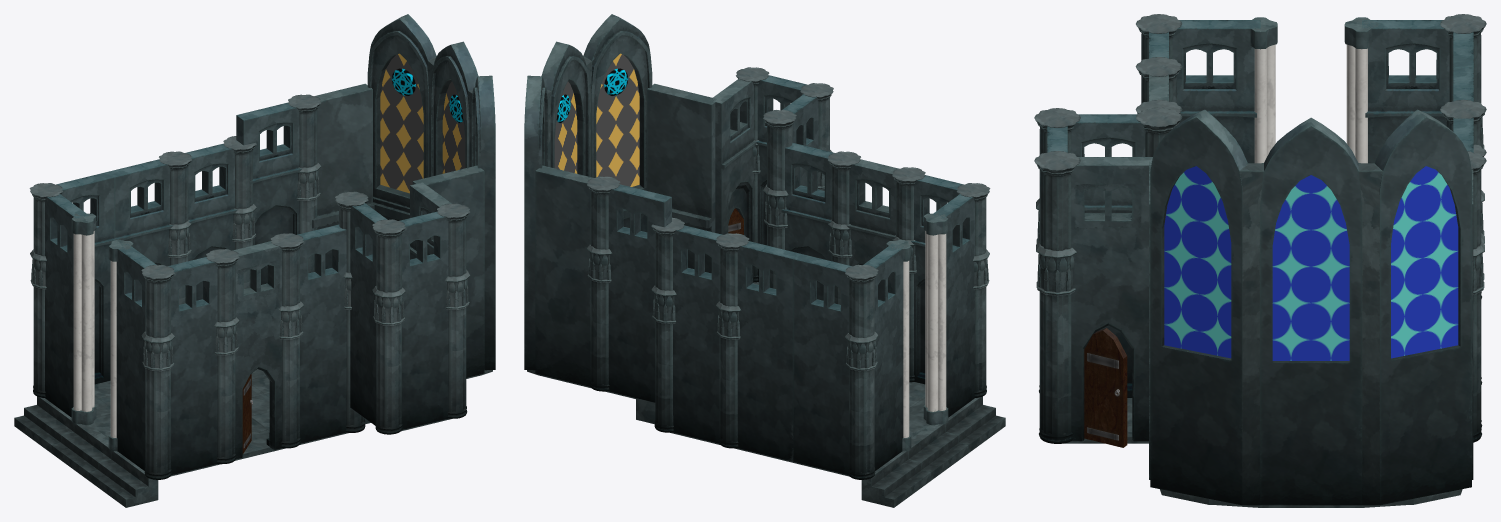
The picture shows the model from 3 angles, left to right: view 1: azimuth 30°, elevation 25°; view 2: azimuth 150°, elevation 25°; view 3: azimuth 270°, elevation 25°; orthographic projection. The views are drawn at different scales.
Parts seen in each view (by area): view 1: WindowedWall1, WallA21, WallA19, WallA18, Wall (×2), WallB3, WallA15, WallA17, WallA16, Pillar20, Pillar13, WallA20 (+23 smaller); view 2: WallB3, WallA12, WallA13, WallA15, Wall (×2), WallA14, WindowedWall2, WallB4, WallA16, WallA17, Pillar12, WindowedWall3 (+20 smaller); view 3: WindowedWall3, WindowedWall2, WindowedWall1, Wall, Pillar19, WallA16, WallA17, PillarDiagonal4, PillarDiagonal3, Door, WallA20, PillarB2 (+16 smaller).
Part boxes in pixels (x1,y1,x2,y2): WindowedWall1: (367,14,436,220); WallA21: (399,211,448,429); WallA19: (297,224,346,443); WallA18: (168,257,217,474); Wall (×2): (233,182,451,459); WallB3: (312,83,374,269); WallA15: (236,102,301,284); WallA17: (115,243,156,470); WallA16: (45,194,89,417); Pillar20: (372,219,405,434); Pillar13: (141,264,174,479); WallA20: (350,203,386,425); WallB3: (535,165,592,386); WallA12: (737,241,800,461); WallA13: (793,254,851,474); WallA15: (608,184,671,402); Wall (×2): (710,78,898,283); WallA14: (673,225,722,443); WindowedWall2: (583,14,652,232); WallB4: (647,83,716,273); WallA16: (863,243,903,470); WallA17: (932,194,974,417); Pillar12: (845,264,878,479); WindowedWall3: (541,41,590,176); WindowedWall3: (1260,117,1361,505); WindowedWall2: (1150,109,1247,505); WindowedWall1: (1374,109,1471,505); Wall: (1071,157,1152,441); Pillar19: (1034,151,1080,443); WallA16: (1362,20,1449,163); WallA17: (1172,20,1260,163); PillarDiagonal4: (1239,163,1263,505); PillarDiagonal3: (1358,163,1382,505); Door: (1084,328,1127,447); WallA20: (1071,114,1145,397); PillarB2: (1344,17,1378,163).
Bounding box in the file's own units: 12.21 × 9.76 × 8.92.
